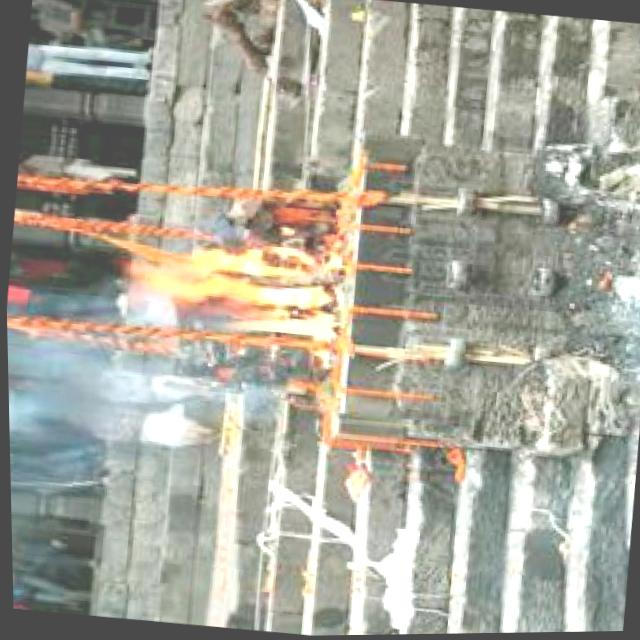helmet: (143, 227, 355, 344)
